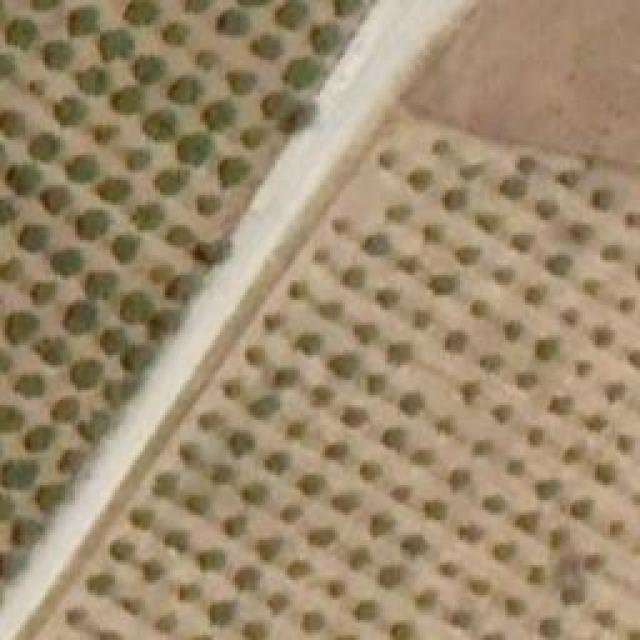Tree: (178, 135, 211, 165), (265, 95, 298, 125), (80, 410, 110, 438), (67, 303, 95, 333), (145, 110, 175, 138), (100, 30, 130, 58), (3, 460, 36, 485), (123, 295, 156, 320), (248, 393, 281, 418), (153, 310, 182, 338), (155, 170, 190, 193), (12, 162, 40, 190), (57, 97, 85, 125), (45, 40, 73, 68), (205, 103, 235, 128), (198, 240, 224, 267), (107, 378, 135, 403), (10, 315, 35, 343), (77, 213, 105, 238), (7, 20, 35, 45), (80, 68, 108, 93), (220, 513, 248, 538), (168, 278, 198, 301), (328, 355, 358, 378), (432, 134, 459, 159), (125, 0, 155, 22), (410, 305, 435, 331), (490, 260, 516, 285), (15, 520, 43, 543), (127, 348, 155, 371), (40, 340, 68, 363), (55, 250, 83, 273), (135, 208, 163, 231), (30, 135, 58, 158), (220, 160, 248, 183), (70, 10, 98, 33), (75, 360, 100, 385), (90, 270, 115, 295), (0, 110, 25, 135), (115, 88, 140, 113), (153, 470, 178, 495), (230, 433, 255, 458), (604, 517, 629, 542), (523, 423, 550, 446), (325, 438, 349, 463), (600, 243, 626, 266), (23, 225, 48, 248), (45, 188, 68, 213), (280, 3, 305, 26), (443, 188, 468, 211), (548, 253, 571, 278), (515, 510, 540, 533), (400, 535, 425, 558), (255, 538, 280, 561), (233, 568, 258, 591), (165, 528, 188, 553), (185, 493, 210, 516), (240, 483, 265, 506), (88, 570, 113, 593), (67, 158, 95, 178), (172, 80, 200, 100), (287, 63, 315, 83), (362, 235, 390, 255), (297, 473, 325, 493), (207, 603, 235, 623), (197, 550, 225, 570), (292, 333, 320, 353), (310, 243, 333, 267), (0, 405, 22, 430), (308, 527, 338, 545), (103, 330, 126, 353), (115, 235, 138, 258), (103, 178, 126, 201), (138, 58, 161, 81), (435, 415, 457, 438), (468, 298, 490, 321), (115, 595, 143, 613), (38, 485, 63, 505), (28, 428, 53, 448), (500, 178, 525, 198), (478, 213, 503, 233), (213, 465, 238, 485), (110, 540, 135, 560), (505, 457, 526, 479), (63, 450, 86, 470), (18, 375, 41, 395), (223, 13, 246, 33), (315, 28, 335, 51), (513, 233, 536, 253), (535, 340, 558, 360), (400, 393, 423, 413), (383, 428, 403, 451), (460, 523, 483, 543), (370, 515, 393, 535), (355, 600, 378, 620), (265, 453, 288, 473), (180, 443, 200, 466), (130, 508, 153, 528), (535, 198, 558, 218), (255, 40, 280, 58), (275, 367, 300, 385), (243, 622, 268, 640), (560, 585, 585, 603), (375, 150, 397, 170), (330, 216, 352, 236), (570, 222, 593, 240), (430, 275, 453, 293), (595, 325, 613, 348), (388, 342, 411, 360), (462, 383, 480, 406), (595, 463, 613, 486), (300, 612, 323, 630), (390, 622, 413, 640), (198, 412, 221, 430), (288, 280, 311, 298), (623, 208, 640, 232), (0, 555, 20, 575), (165, 23, 185, 43), (410, 168, 430, 188), (448, 330, 468, 350), (355, 323, 375, 343), (343, 265, 363, 285), (425, 498, 445, 518), (495, 540, 515, 560), (380, 568, 400, 588), (348, 548, 368, 568), (268, 593, 288, 613), (30, 0, 65, 11), (230, 75, 255, 90), (460, 163, 485, 178), (455, 248, 480, 263), (388, 205, 413, 220), (330, 495, 355, 510), (618, 290, 635, 312), (55, 400, 75, 418), (38, 282, 58, 300), (3, 260, 23, 278), (170, 227, 190, 245), (150, 265, 170, 283), (198, 50, 218, 68), (595, 190, 613, 210), (378, 290, 398, 308), (343, 407, 363, 425), (570, 500, 590, 518), (485, 495, 505, 513), (452, 468, 470, 488), (418, 590, 438, 608), (452, 610, 470, 630), (143, 562, 163, 580), (285, 420, 305, 438), (245, 345, 263, 365), (65, 607, 85, 625), (540, 618, 558, 638), (320, 303, 343, 318), (288, 560, 311, 575), (178, 583, 201, 598), (627, 345, 640, 370), (245, 127, 263, 145), (582, 277, 600, 295), (562, 307, 580, 325), (362, 462, 380, 480), (527, 565, 545, 583), (327, 580, 345, 598), (155, 615, 173, 633), (595, 610, 613, 628), (198, 198, 218, 213), (423, 225, 443, 240), (398, 258, 418, 273), (480, 355, 500, 370), (368, 375, 383, 395), (550, 398, 570, 413), (588, 415, 608, 430), (473, 440, 493, 455), (315, 388, 330, 408), (538, 483, 558, 498), (470, 580, 490, 595), (130, 153, 148, 168), (95, 125, 113, 140), (337, 0, 355, 15), (557, 170, 575, 185), (520, 155, 538, 170), (528, 285, 543, 303), (517, 373, 535, 388), (608, 382, 623, 400), (565, 445, 583, 460), (412, 448, 430, 463), (553, 527, 568, 545), (280, 505, 298, 520), (223, 380, 238, 398), (265, 312, 280, 330), (585, 553, 603, 568), (505, 323, 520, 338), (495, 405, 510, 420), (395, 488, 410, 503), (438, 563, 453, 578), (508, 598, 523, 613)
